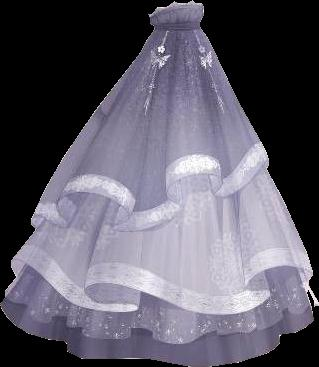Bodice: (148, 0, 203, 30)
Hemline: (0, 303, 318, 366), (30, 158, 270, 233), (8, 258, 312, 313)
Neckline: (147, 1, 202, 16)
Skirt: (0, 26, 318, 366)
Waistline: (152, 26, 199, 33)
